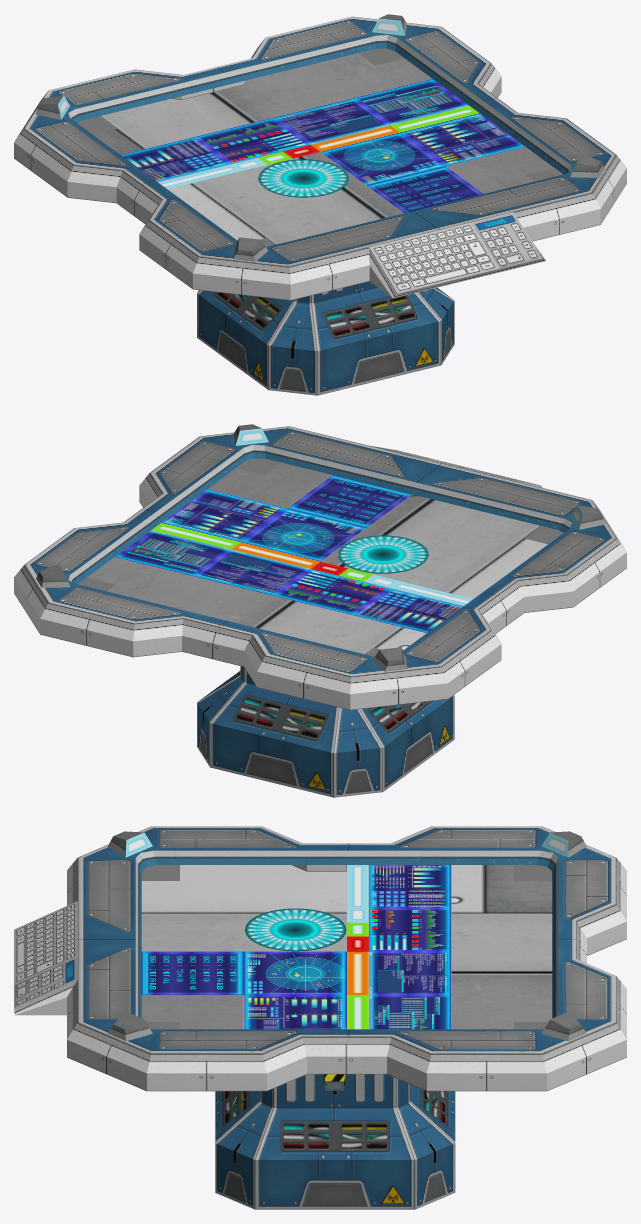
File: Commander_Table_01.FBX
The picture shows the model from 3 angles, top to bottom: view 1: azimuth 30°, elevation 25°; view 2: azimuth 150°, elevation 25°; view 3: azimuth 270°, elevation 25°; orthographic projection. The views are drawn at different scales.
Visible parts, largest first — view 1: Commander_Table_01, Screen; view 2: Commander_Table_01, Screen; view 3: Commander_Table_01, Screen.
Part boxes in pixels (bbox=[...]): Commander_Table_01: bbox=[14, 14, 626, 395]; Screen: bbox=[77, 48, 562, 246]; Commander_Table_01: bbox=[14, 424, 626, 797]; Screen: bbox=[78, 458, 563, 656]; Commander_Table_01: bbox=[14, 826, 626, 1209]; Screen: bbox=[141, 865, 552, 1029].
Bounding box in the file's own units: 100 × 45.98 × 110.
